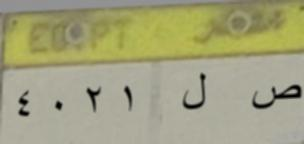0: (49, 94, 68, 121)
1: (119, 81, 139, 117)
2: (83, 83, 103, 117)
4: (12, 86, 34, 120)
laam: (179, 69, 210, 115)
saad: (249, 83, 302, 114)
